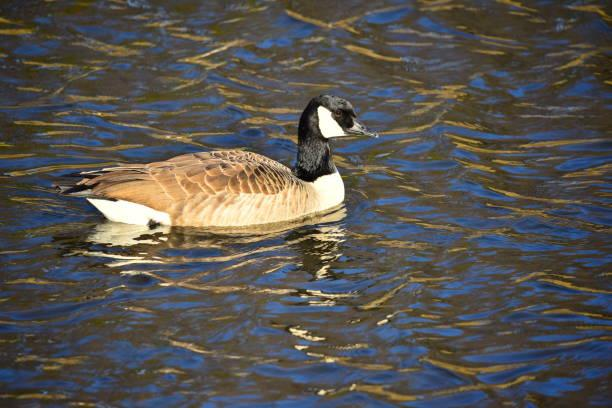Canadian-Goose: (54, 92, 378, 230)
